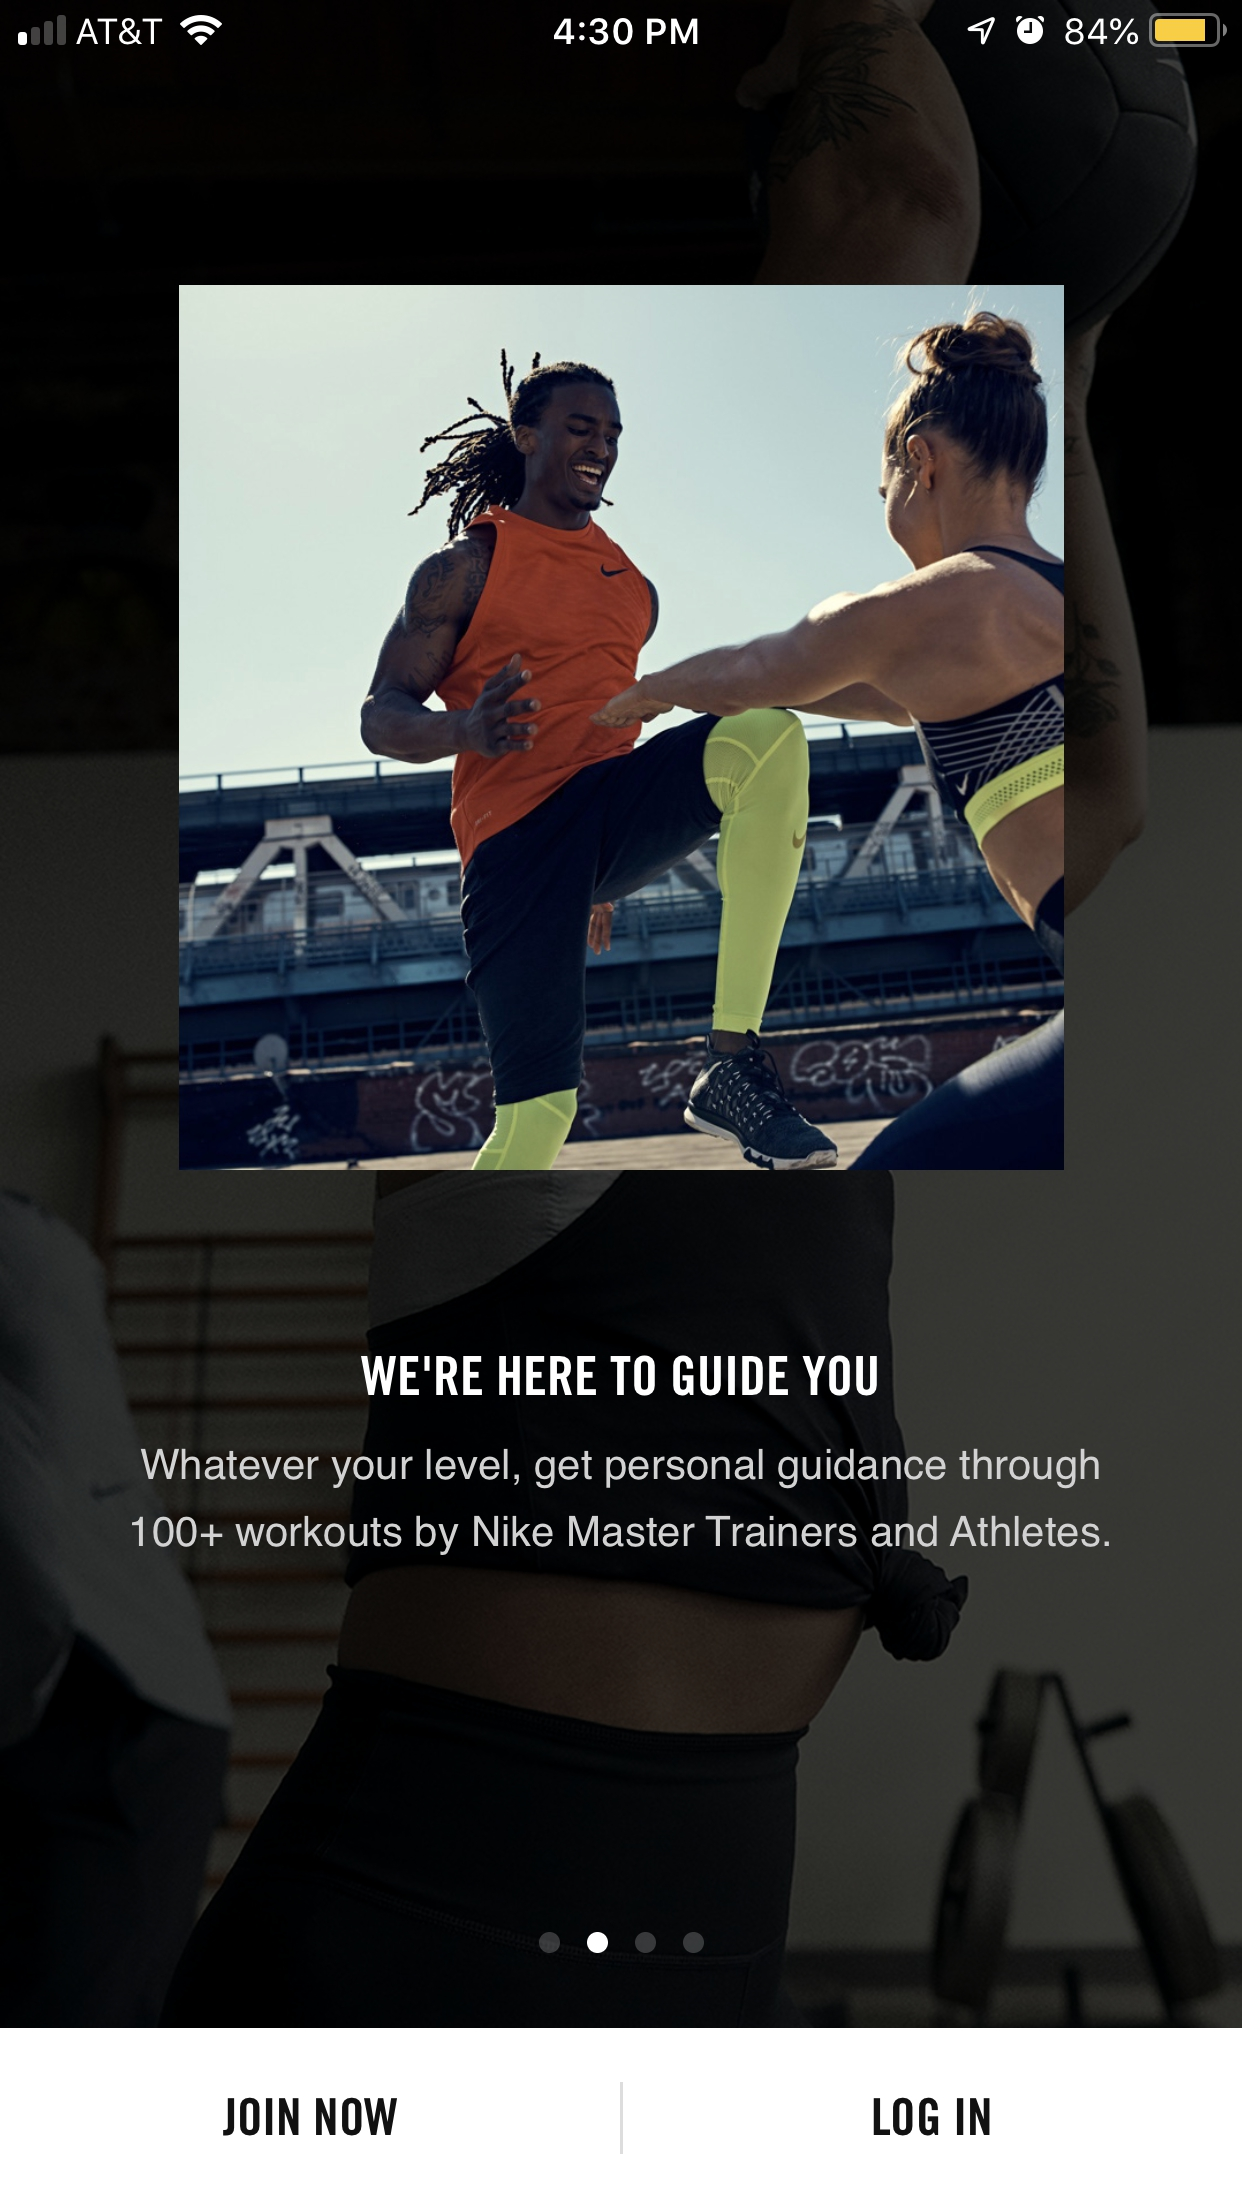Image: (179, 285, 1065, 1171)
PageIndicator: (538, 1930, 705, 1955)
Text: (132, 1448, 1110, 1556), (361, 1356, 878, 1397), (223, 2096, 397, 2137), (873, 2096, 990, 2137)
UpperTaskBar: (2, 2, 1242, 50)
